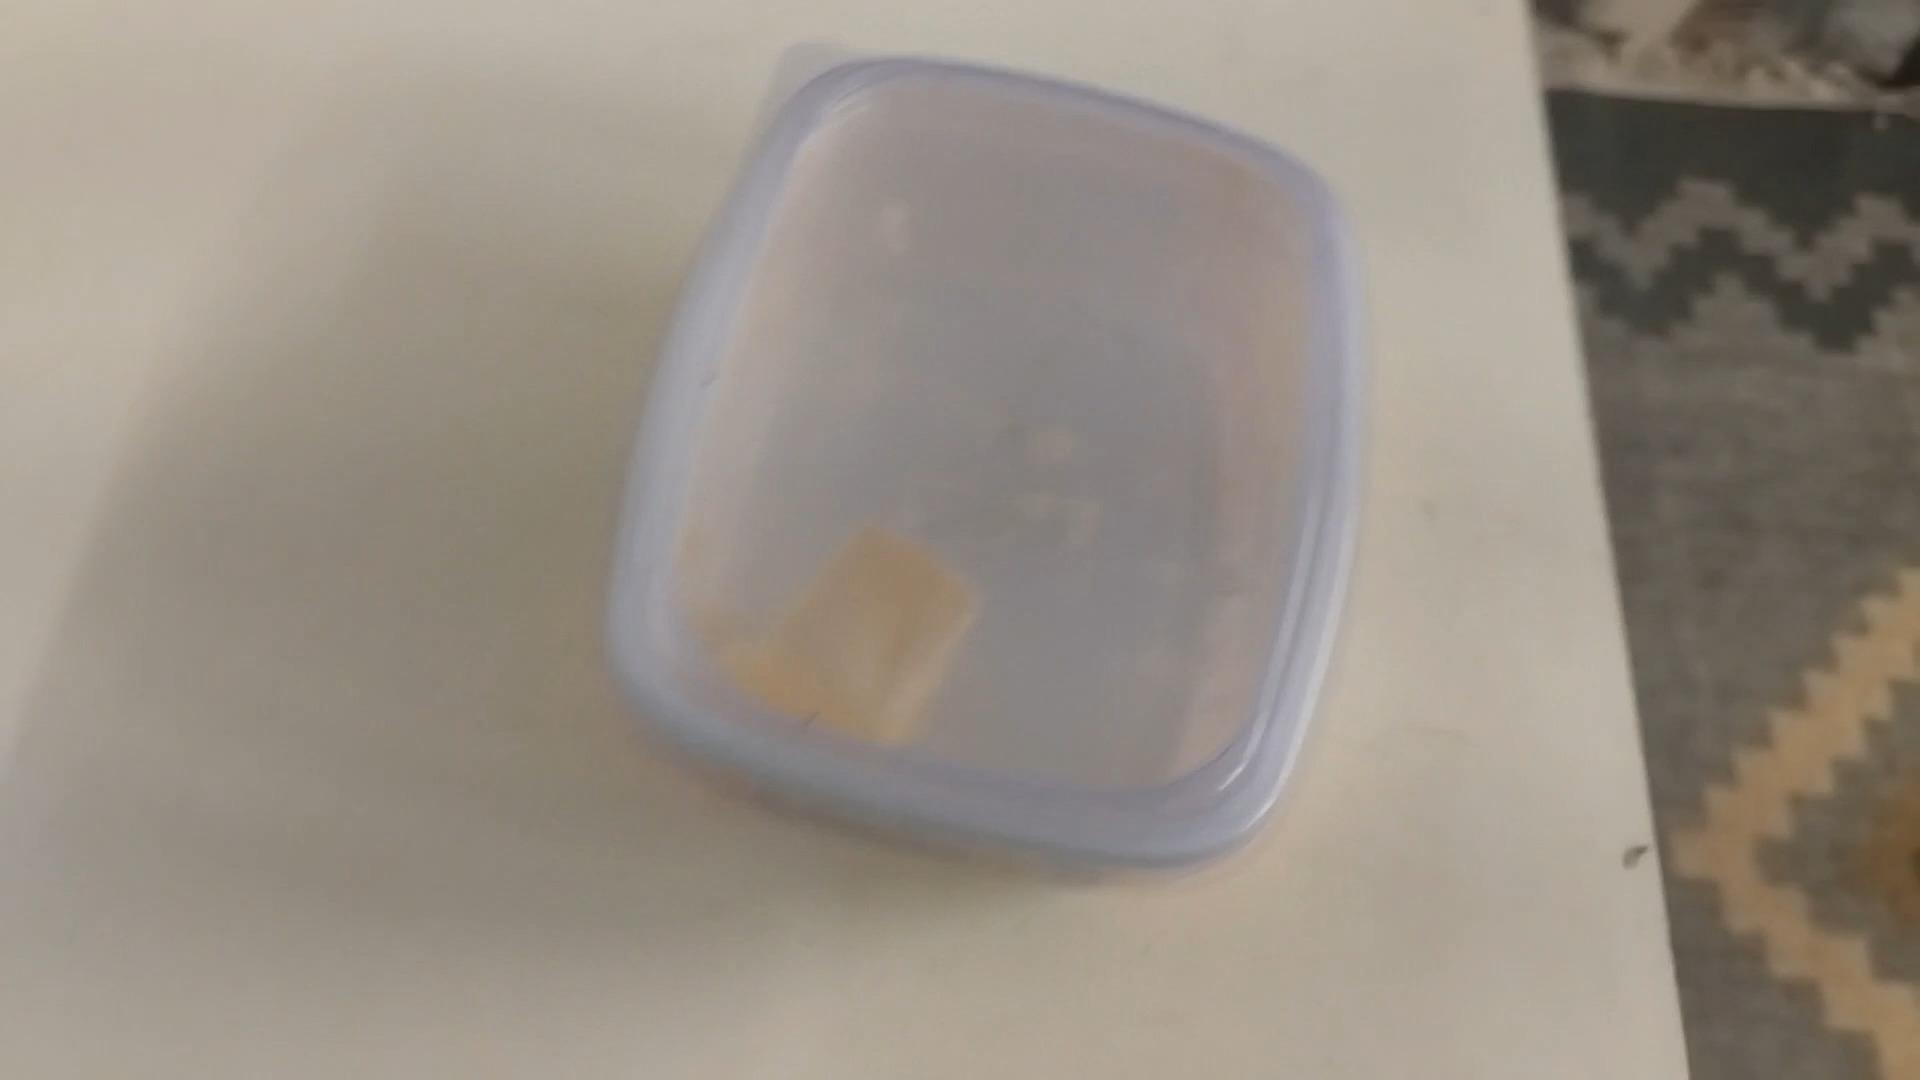butter: (599, 58, 1353, 881)
